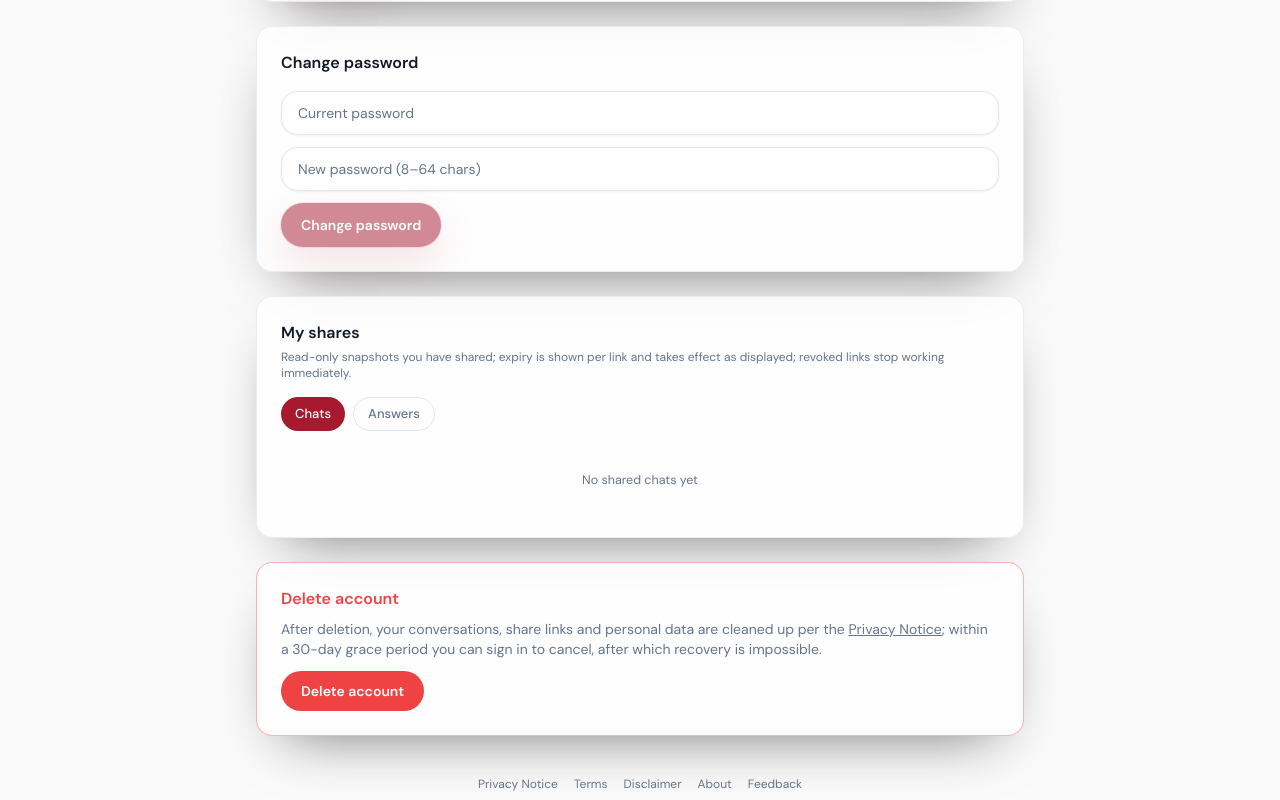
it: AccountPage › accessible names (#235) › switches the accessible names with the global language (en)
(page scrolled)
Click the button with test id "delete-account": (353,691) [281,671,424,711]
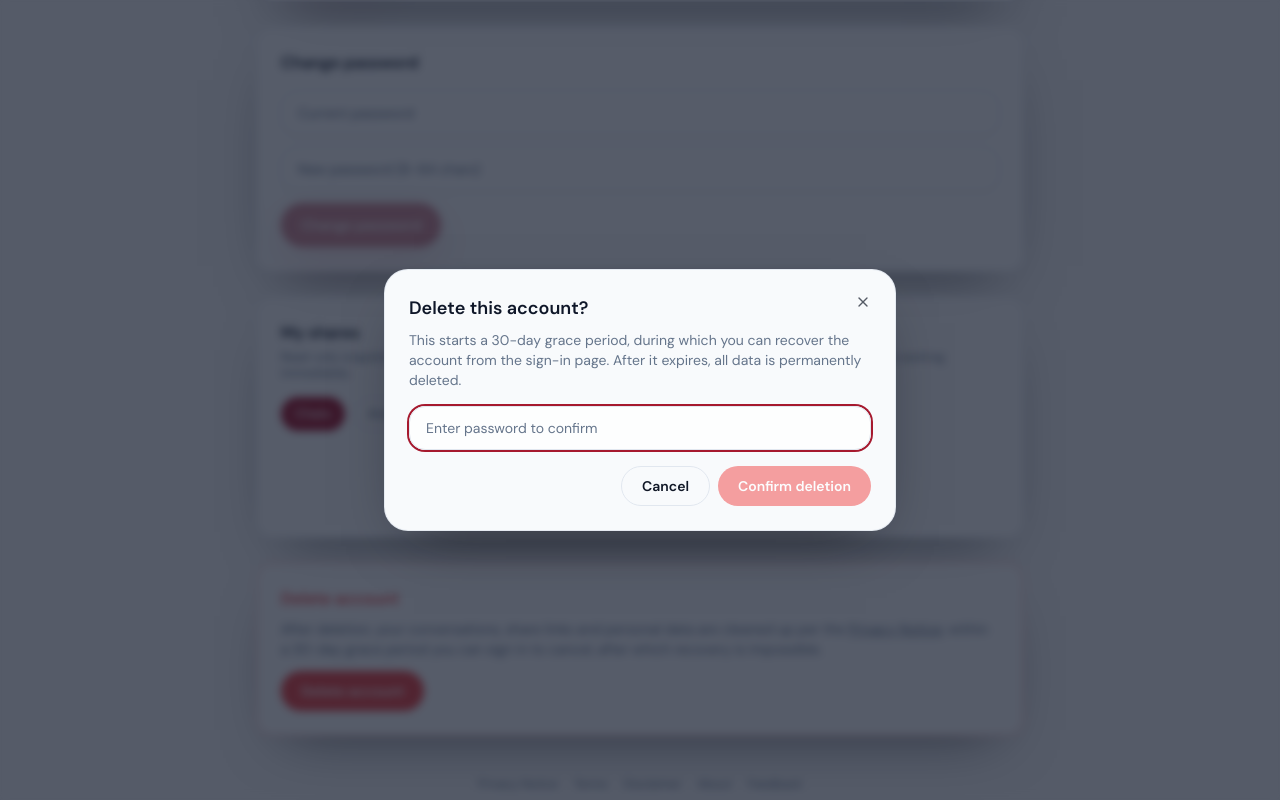
Expected: the button named "Close" is shown, [847,286,879,318]
